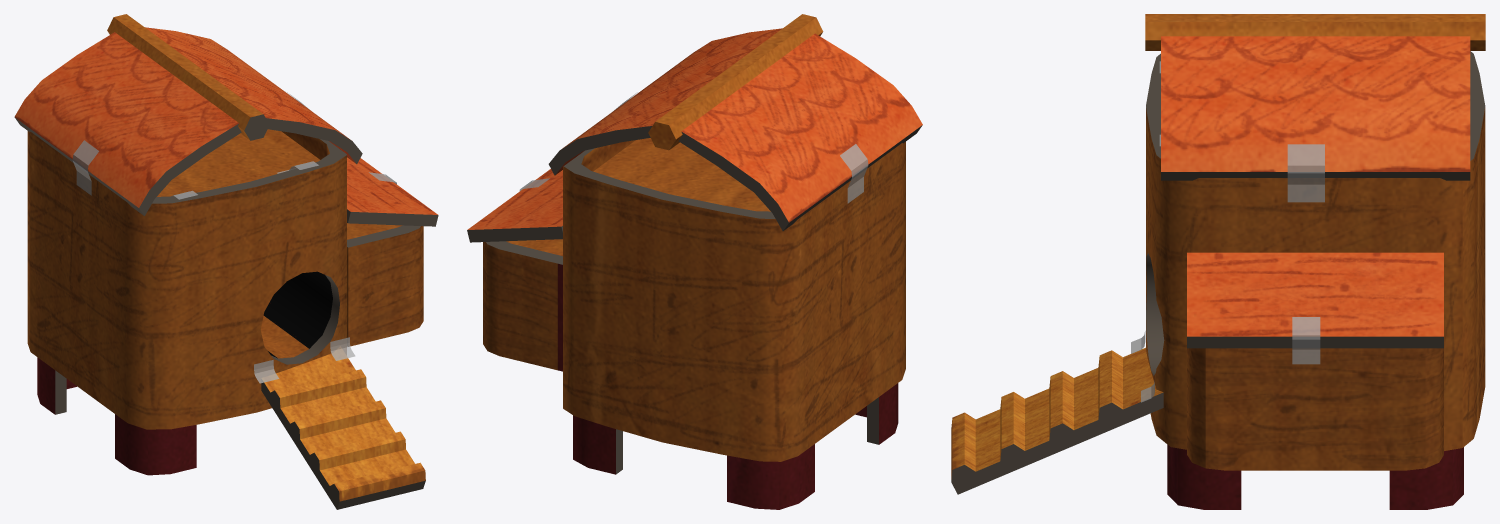
The model's file is HenHouse.fbx.
3 renders of one model, left to right at view 1: azimuth 30°, elevation 25°; view 2: azimuth 150°, elevation 25°; view 3: azimuth 270°, elevation 25°, orthographic. The views are drawn at different scales.
Visible parts, largest first — view 1: HenHouseModel; view 2: HenHouseModel; view 3: HenHouseModel.
Boxes of the visible parts, x1,y1,x2,y2 form: HenHouseModel: [14, 14, 438, 509]; HenHouseModel: [467, 14, 922, 509]; HenHouseModel: [951, 14, 1485, 509].
Size of the model in its own units: 144 by 153 by 173.
